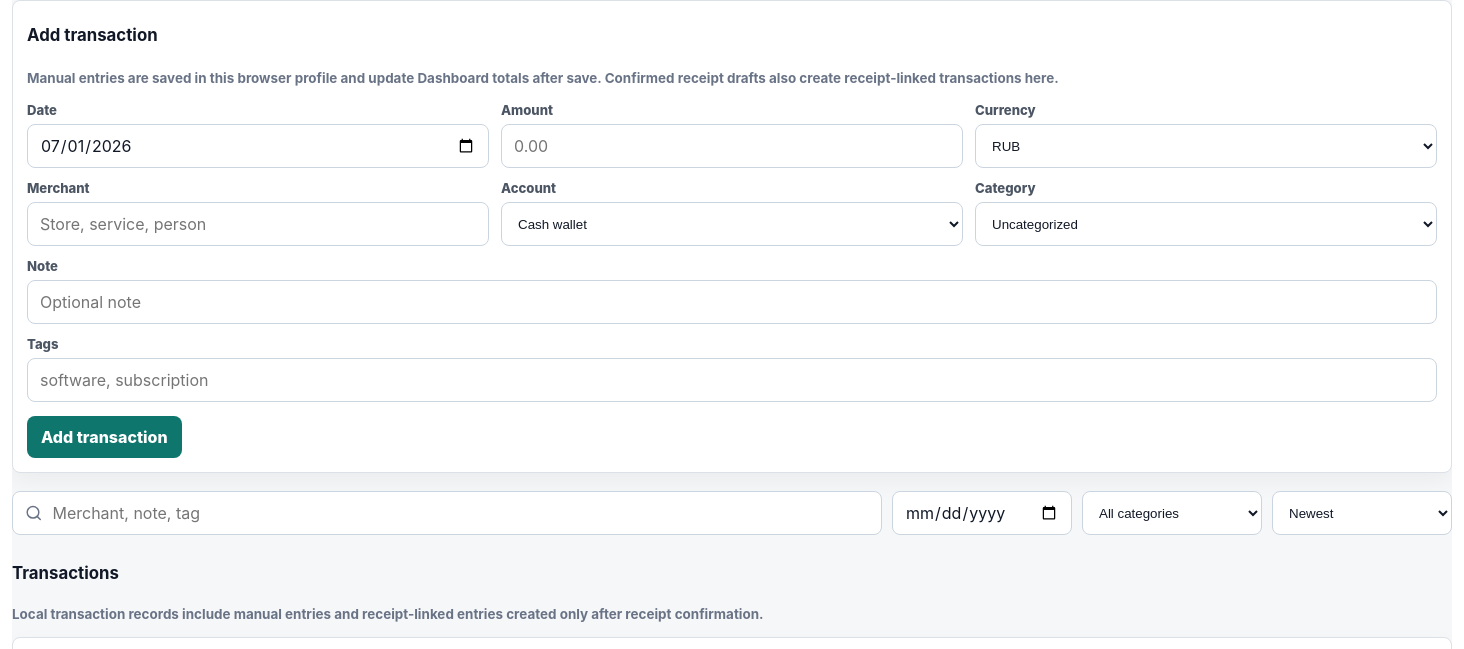
Test: TransactionsPage › surfaces create validation errors without clearing the form
Click the button "Add transaction".
click(104, 438)  # box left=27, top=416, right=182, bottom=458
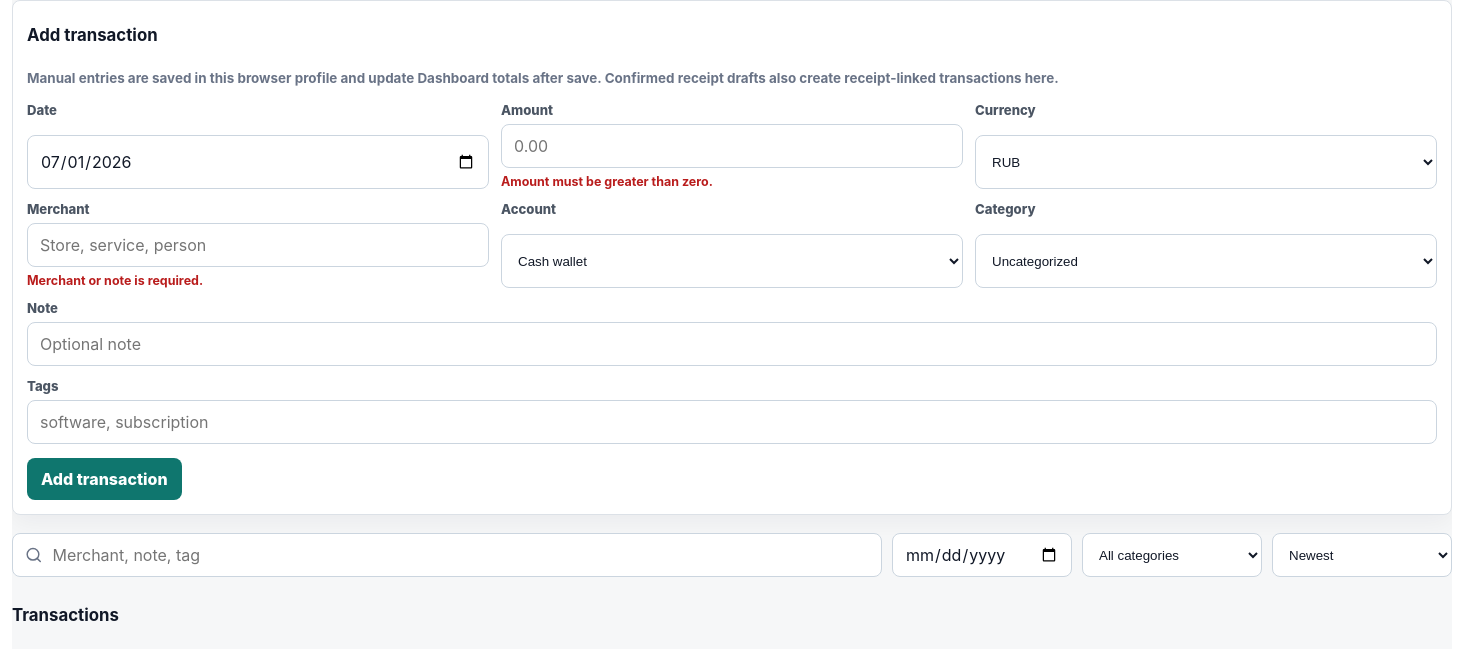
Check: the number field labelled "Amount Amount must be greater than zero." is not empty, box left=501, top=124, right=963, bottom=168
Check: the text "Amount must be greater than zero." is shown, box left=501, top=174, right=713, bottom=190
Check: the text "Merchant or note is required." is shown, box left=27, top=274, right=203, bottom=288
